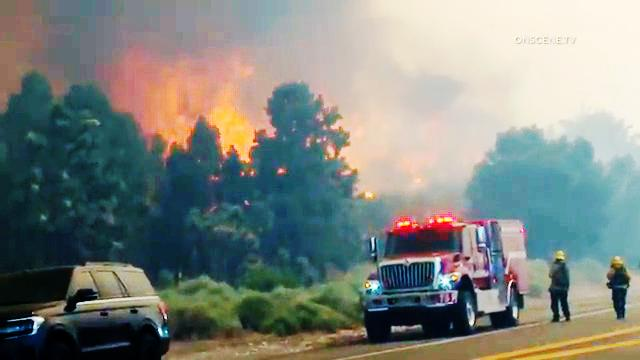fire: (155, 69, 253, 162)
